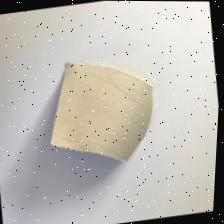paper: (34, 35, 191, 179)
